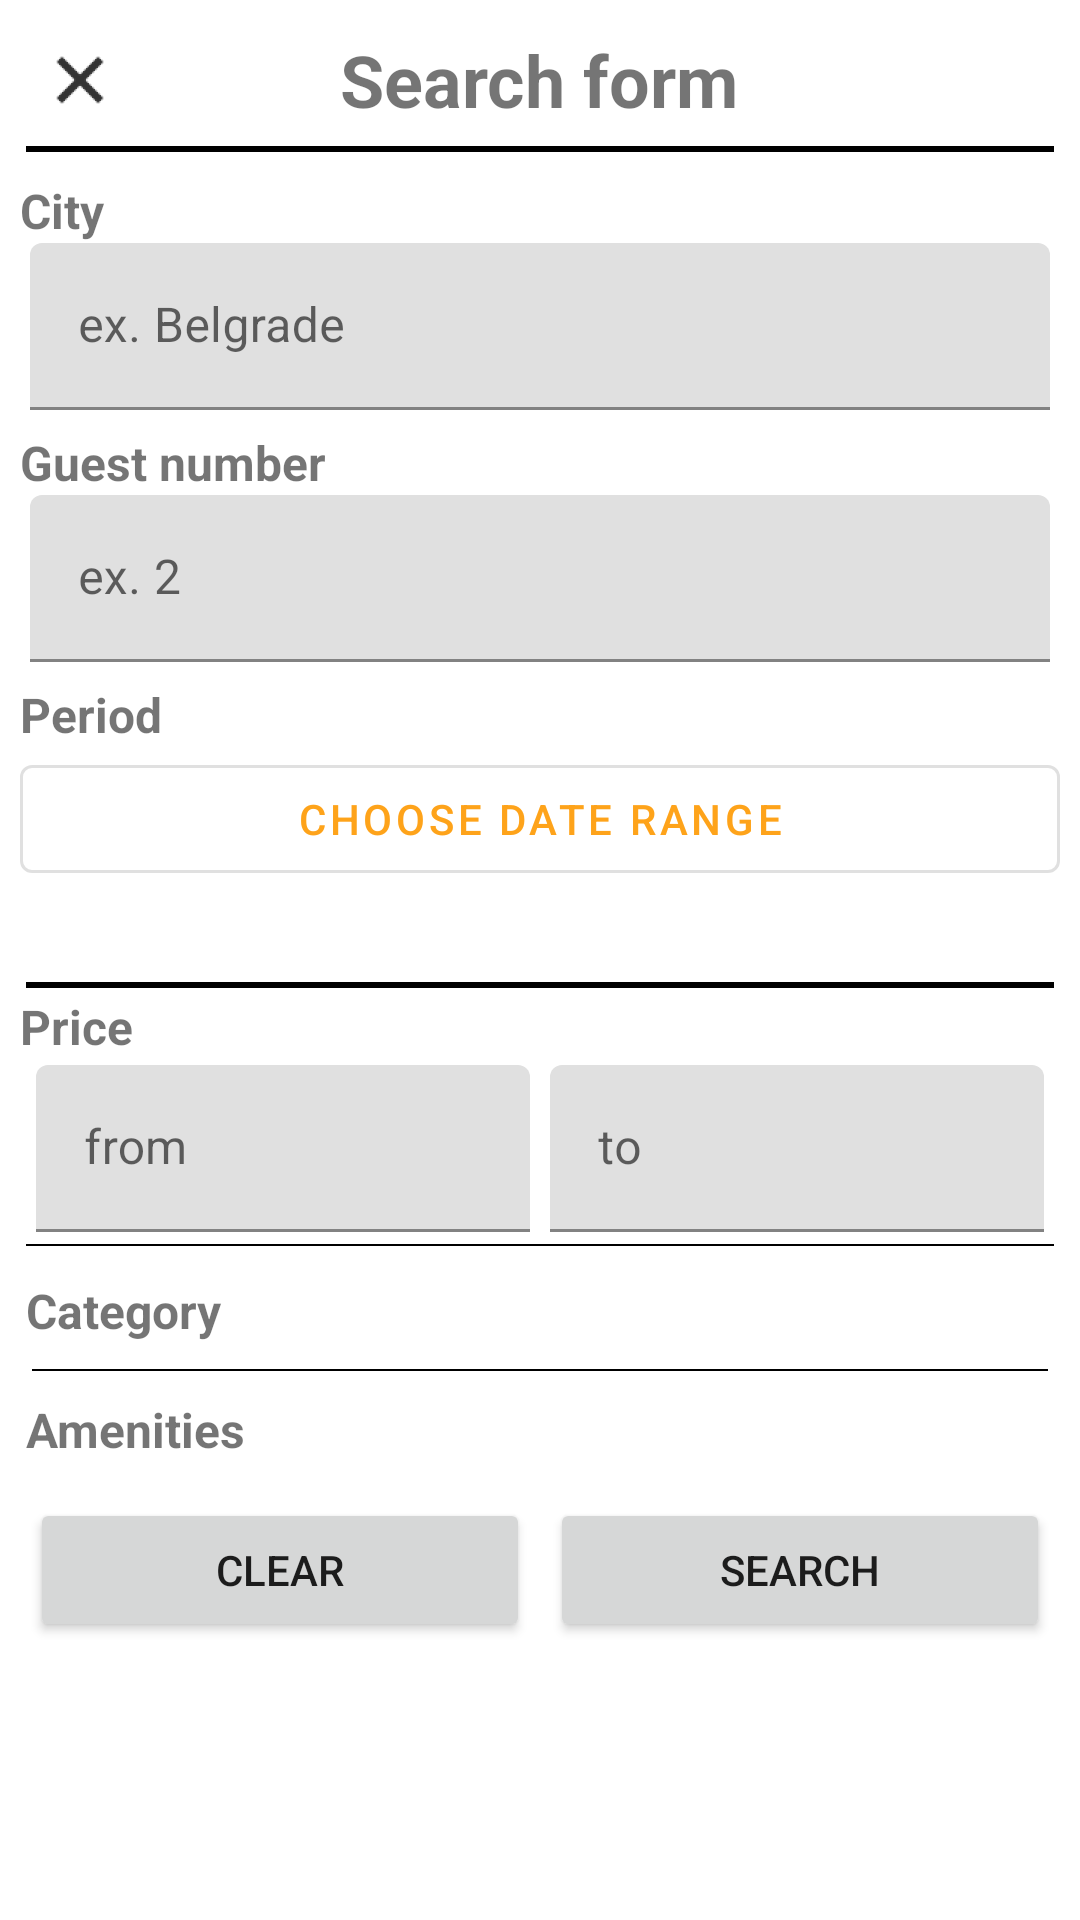

Where icons sit on this 1080 × 1920 app screen, as region(x1, y1, x2, y2):
close: region(56, 56, 104, 104)
